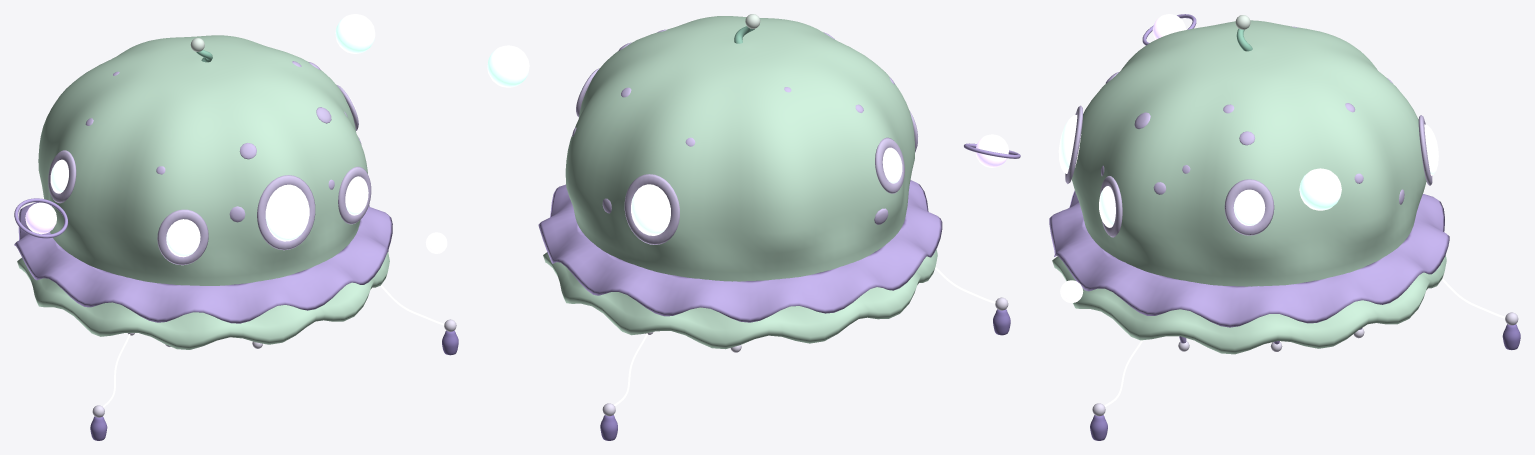
The model's file is house_05_0502.fbx.
The picture shows the model from 3 angles, left to right: view 1: azimuth 30°, elevation 25°; view 2: azimuth 150°, elevation 25°; view 3: azimuth 270°, elevation 25°; orthographic projection. The views are drawn at different scales.
Visible parts, largest first — view 1: House05_Dome, House05_Frill, House05_WindowRims, House05_Windows, House05_FloatOrb_1, House05_FloatOrb_2, House05_Spots; view 2: House05_Dome, House05_Frill, House05_WindowRims, House05_Windows, House05_FloatOrb_2, House05_FloatOrb_1, House05_Spots; view 3: House05_Dome, House05_Frill, House05_WindowRims, House05_Windows, House05_FloatOrb_2, House05_Spots, House05_FloatOrb_1.
Part boxes in pixels (<box>): House05_Dome: <box>17,35,389,349</box>; House05_Frill: <box>14,202,392,323</box>; House05_WindowRims: <box>48,85,371,265</box>; House05_Windows: <box>50,96,368,257</box>; House05_FloatOrb_1: <box>14,198,68,238</box>; House05_FloatOrb_2: <box>335,14,375,53</box>; House05_Spots: <box>50,61,361,222</box>; House05_Dome: <box>543,16,937,349</box>; House05_Frill: <box>538,180,942,322</box>; House05_WindowRims: <box>576,68,917,244</box>; House05_Windows: <box>579,80,902,235</box>; House05_FloatOrb_2: <box>487,45,529,87</box>; House05_FloatOrb_1: <box>964,134,1020,167</box>; House05_Spots: <box>572,29,894,224</box>; House05_Dome: <box>1052,20,1446,354</box>; House05_Frill: <box>1049,190,1449,327</box>; House05_WindowRims: <box>1065,105,1432,237</box>; House05_Windows: <box>1058,115,1438,227</box>; House05_FloatOrb_2: <box>1299,168,1341,210</box>; House05_Spots: <box>1101,26,1404,204</box>; House05_FloatOrb_1: <box>1142,14,1196,45</box>.
Bounding box in the file's own units: 5.87 × 4.07 × 5.3.
